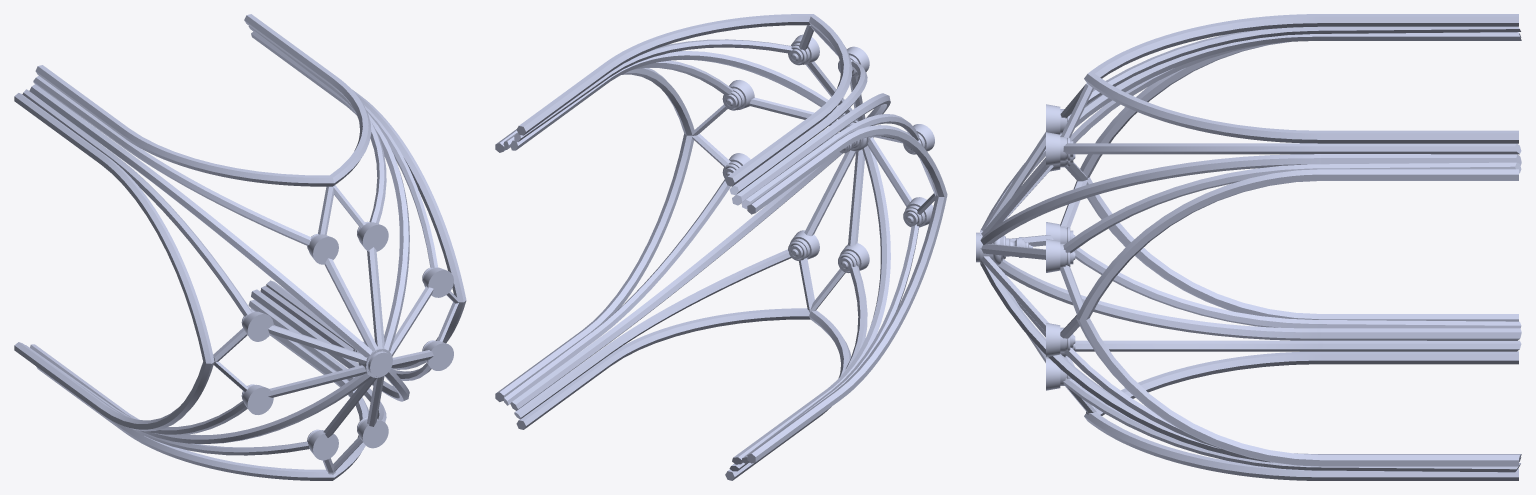
The model's file is voute_gothique.glb.
3 renders of one model, left to right at view 1: azimuth 30°, elevation 25°; view 2: azimuth 150°, elevation 25°; view 3: azimuth 270°, elevation 25°, orthographic. The views are drawn at different scales.
Visible parts, largest first — view 1: clé de voûte; view 2: clé de voûte; view 3: clé de voûte.
Part boxes in pixels (x1,y1,x2,y2): clé de voûte: (14, 14, 466, 480); clé de voûte: (495, 14, 947, 480); clé de voûte: (976, 14, 1521, 480).
Size of the model in its own units: 0.8697 by 0.9677 by 1.38.
